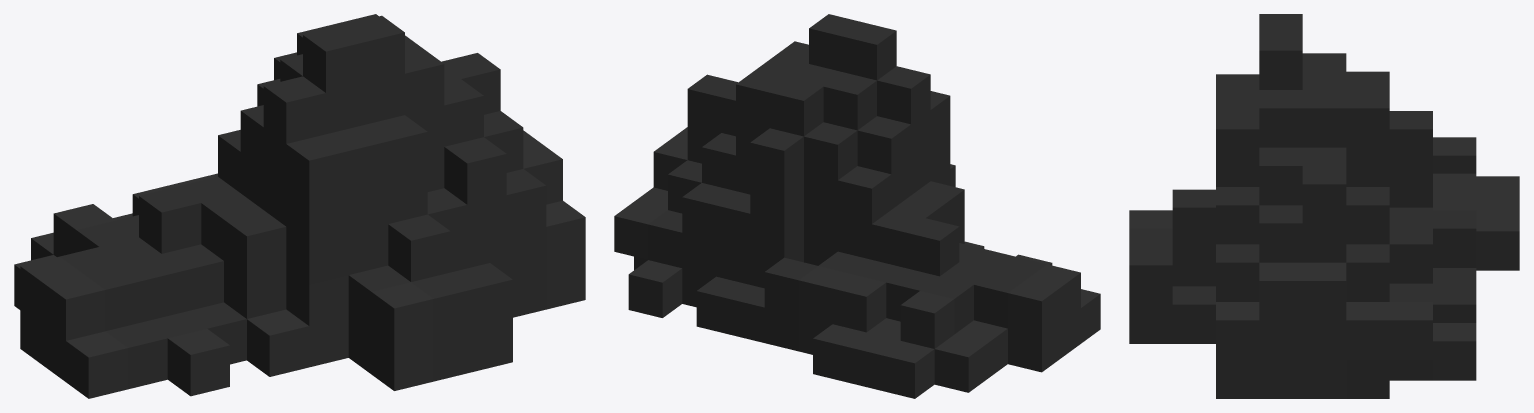
Rendered from Rock.obj.
The picture shows the model from 3 angles, left to right: view 1: azimuth 30°, elevation 25°; view 2: azimuth 150°, elevation 25°; view 3: azimuth 270°, elevation 25°; orthographic projection. The views are drawn at different scales.
Size of the model in its own units: 1.2 by 0.7 by 0.9.
1 material, 1 textured.
